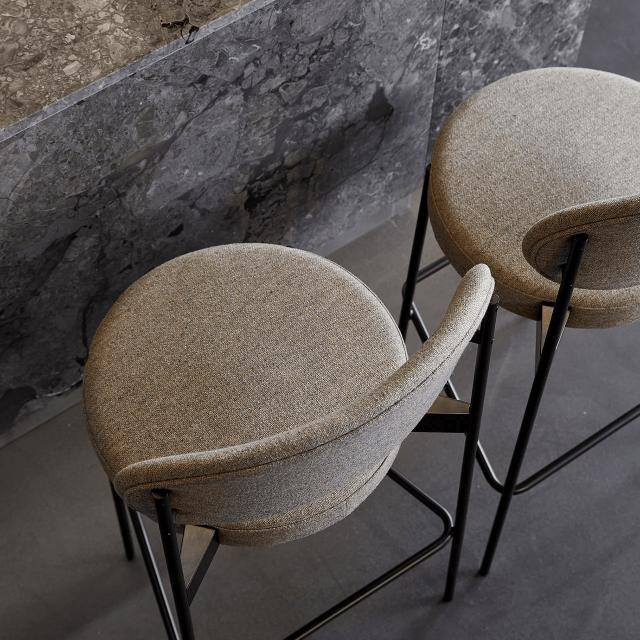chair: (81, 234, 498, 574), (407, 62, 640, 457)
